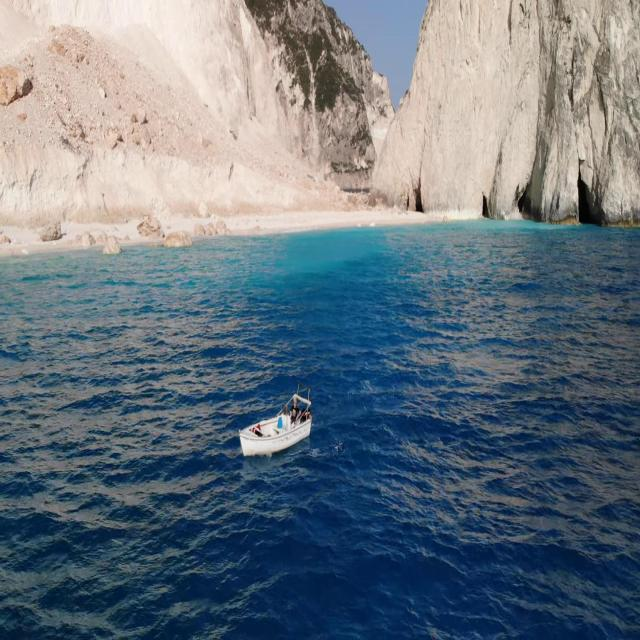boat: (251, 392, 315, 461)
